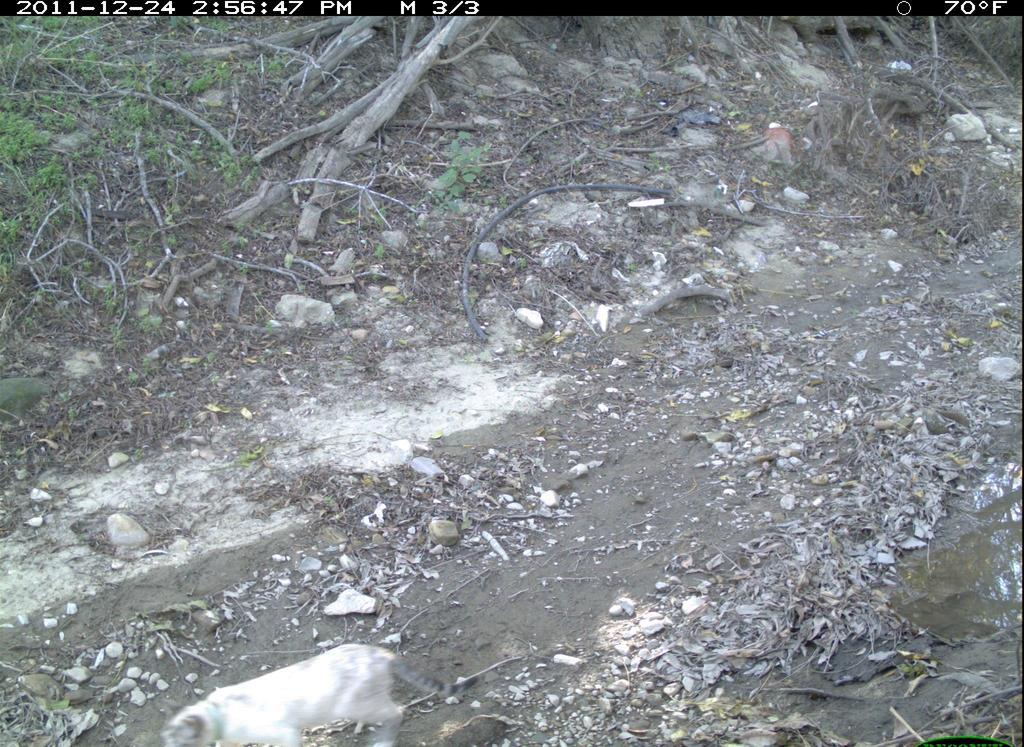cat: (143, 637, 484, 745)
